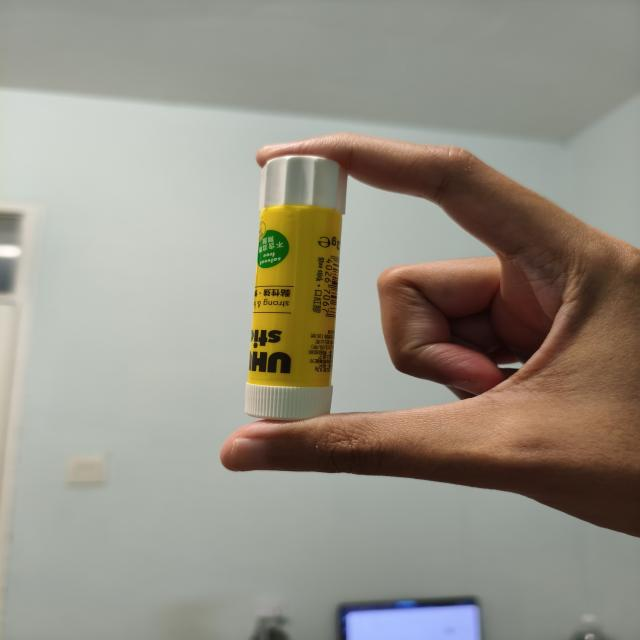glue: (244, 151, 347, 421)
